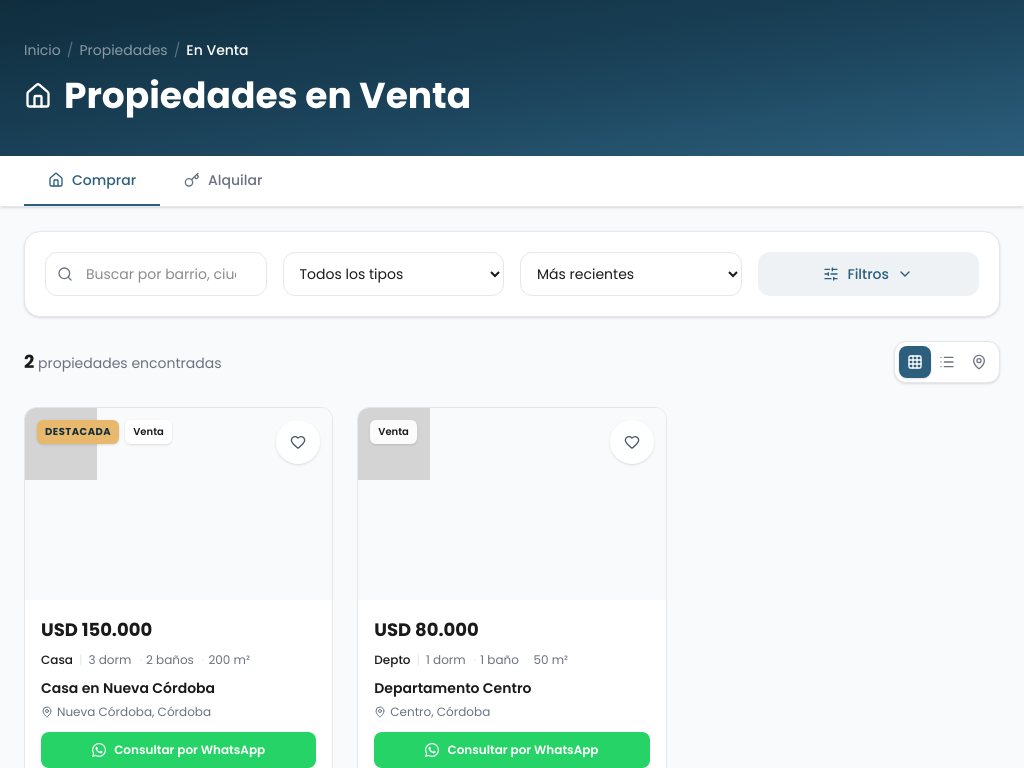
Test: PropertiesResults › shows empty state when no results match
Type "ubicacion inexistente xyz" into the search field with placeholder "Buscar por barrio, ciudad, calle..." at (156, 274), box [45,252,266,296]
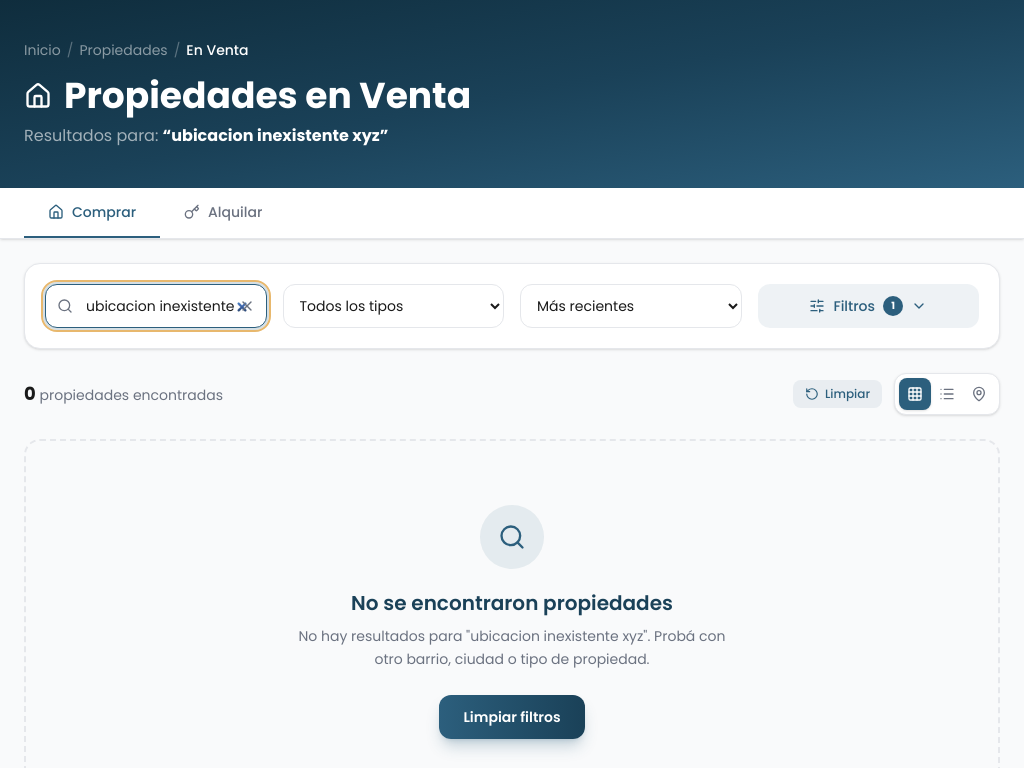
Expected: the heading "No se encontraron propiedades" is shown, [351,589,673,617]
